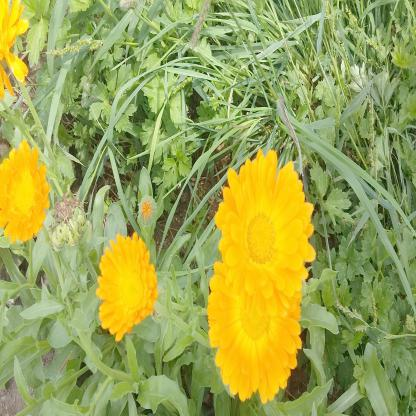marigold: (223, 163, 312, 314), (209, 259, 300, 402), (101, 232, 152, 336), (0, 142, 49, 244)
